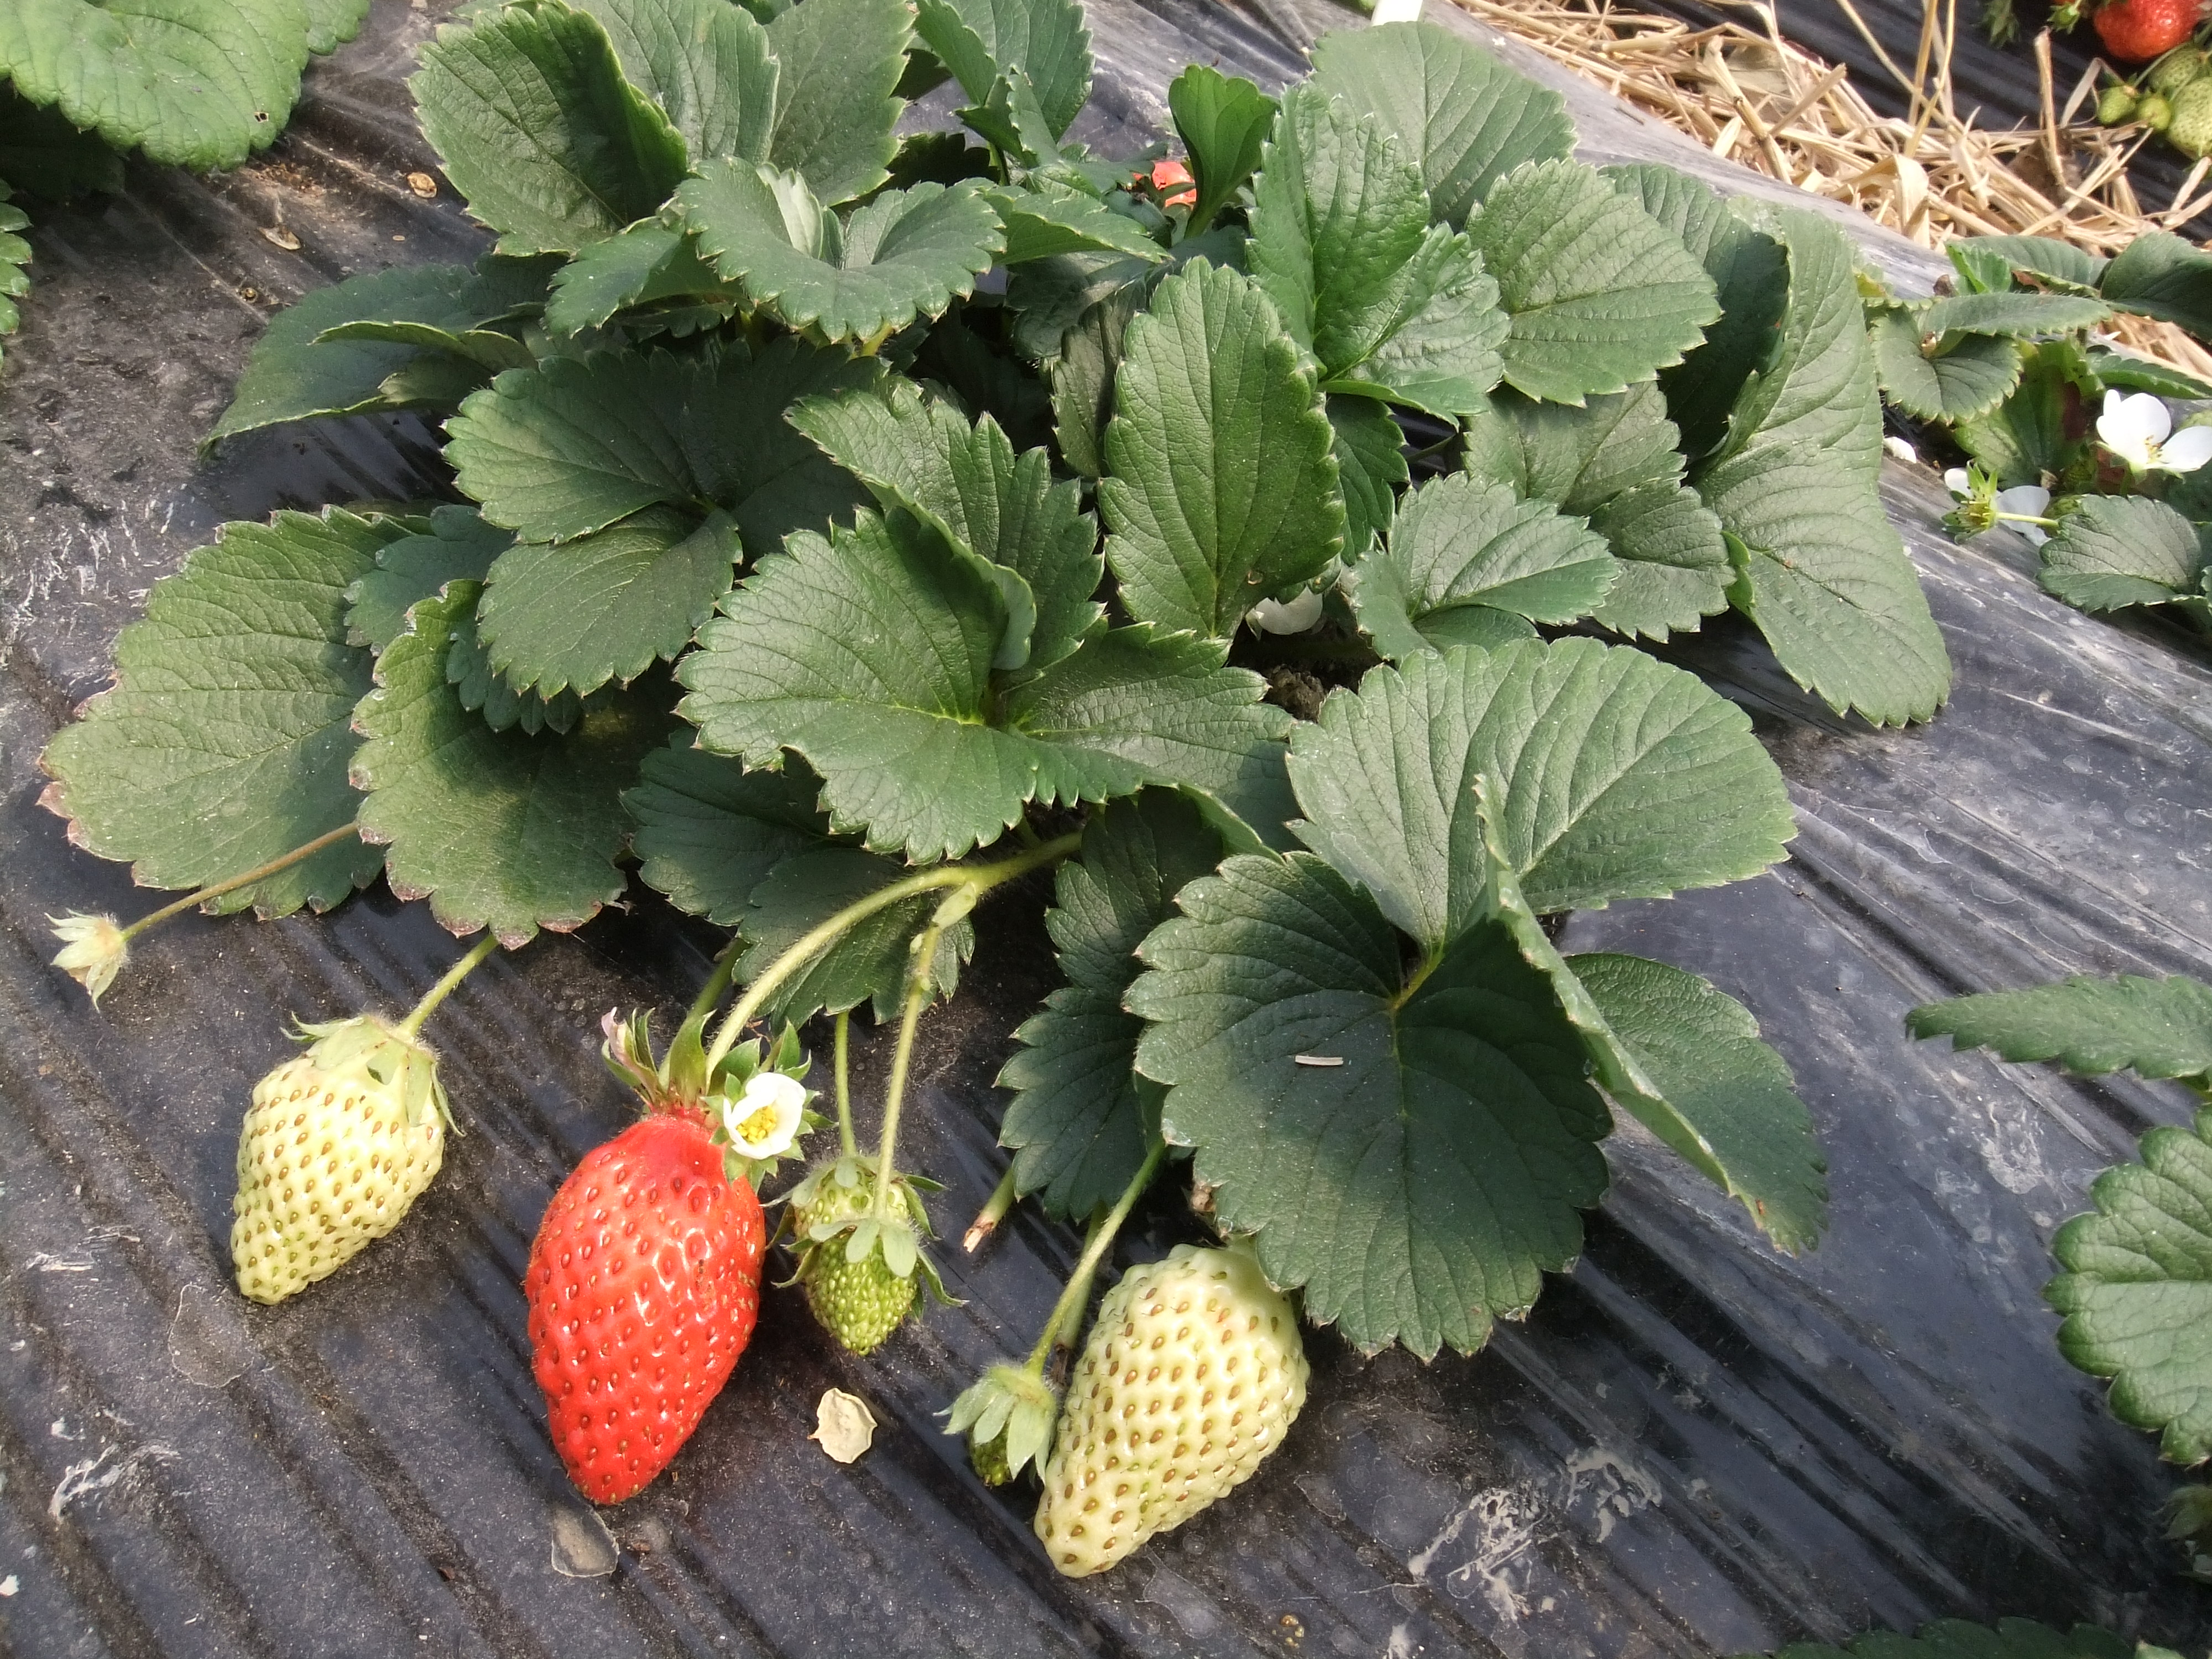StrawberryFusiform: (519, 1093, 791, 1504)
StrawberryIrremovable: (1021, 1239, 1322, 1584), (226, 999, 448, 1314), (787, 1169, 932, 1356), (961, 1361, 1050, 1480), (2160, 64, 2210, 173), (2148, 44, 2205, 91), (2092, 77, 2139, 129), (2127, 91, 2177, 134)
StrawberryRemovable: (523, 1096, 787, 1504)
